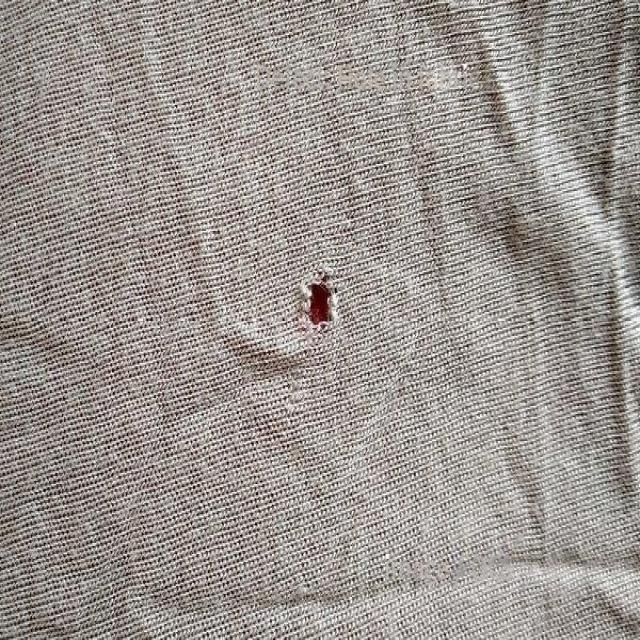Hole: (299, 271, 339, 341)
